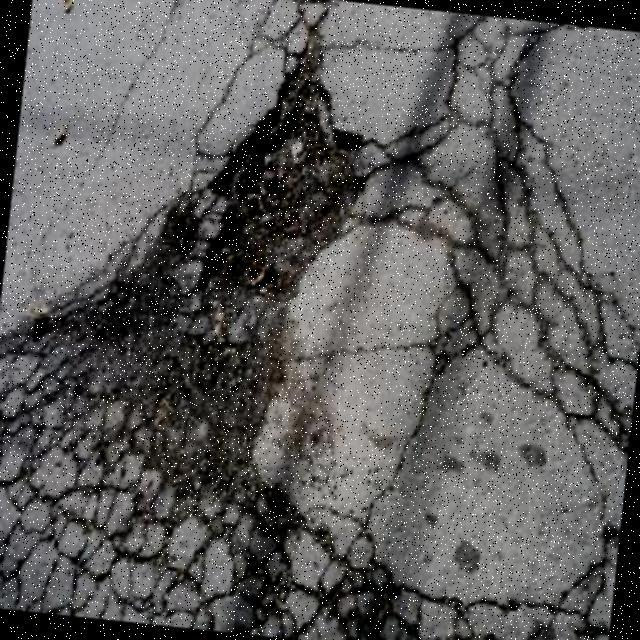Pothole: (19, 26, 365, 511)
